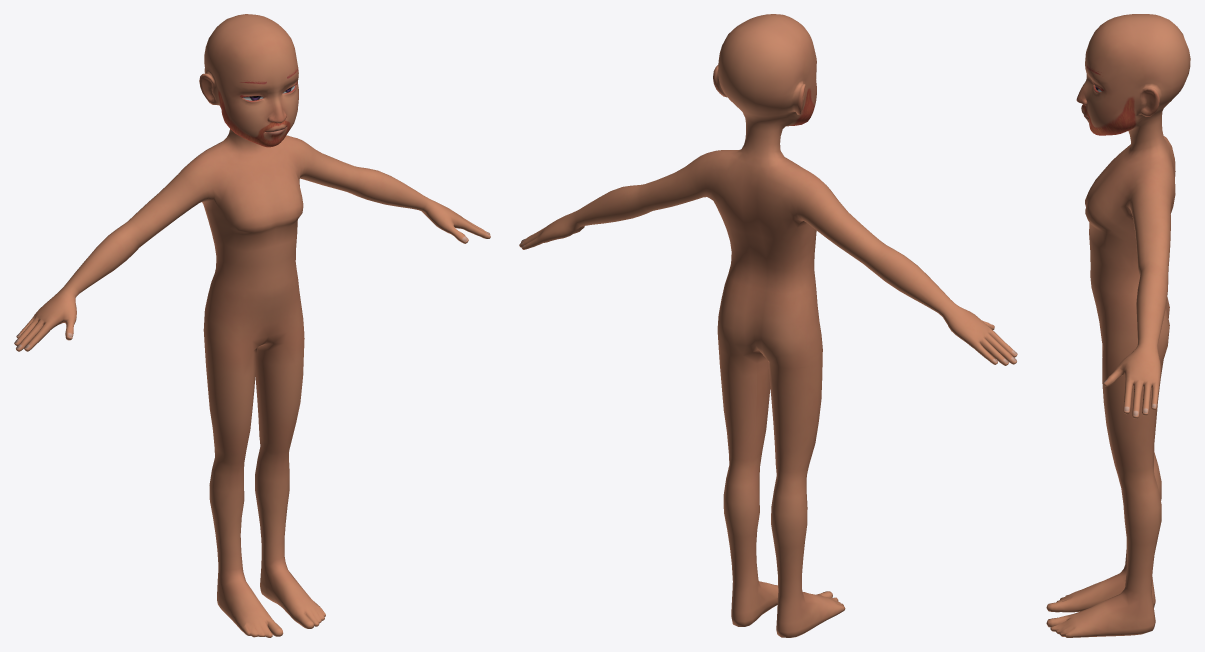
The model's file is frame_0056.glb.
3 views of the same model, side by side, from view 1: azimuth 30°, elevation 25°; view 2: azimuth 150°, elevation 25°; view 3: azimuth 270°, elevation 25° (orthographic). The views are drawn at different scales.
Parts seen in each view (by area): view 1: frame_0056_head_geo; view 2: frame_0056_head_geo; view 3: frame_0056_head_geo.
Boxes of the visible parts, bbox=[...] form: frame_0056_head_geo: bbox=[14, 14, 490, 637]; frame_0056_head_geo: bbox=[519, 14, 1017, 637]; frame_0056_head_geo: bbox=[1046, 14, 1190, 637].
Bounding box in the file's own units: 1.28 × 1.5 × 0.3253.
Materials: 3 (3 with a texture image).
